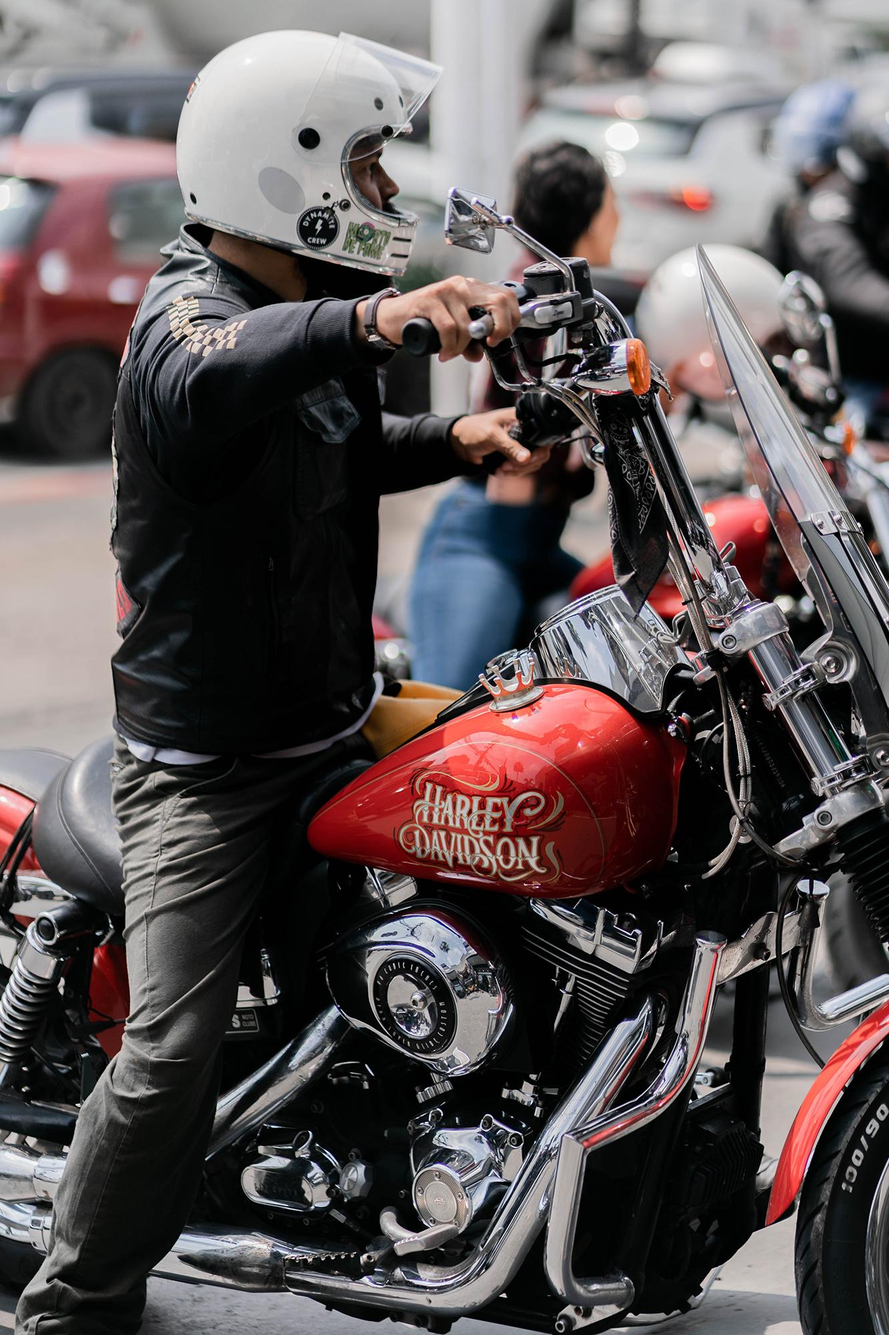helmet: (175, 27, 446, 279)
